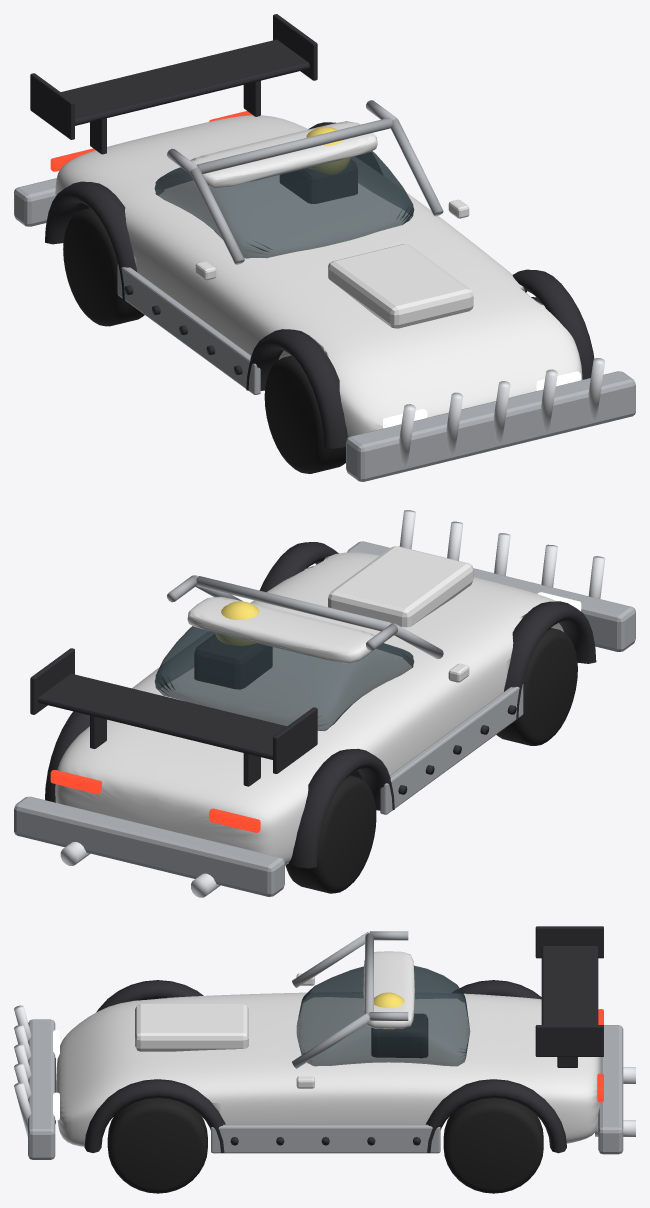
The model's file is muscle.glb.
The picture shows the model from 3 angles, top to bottom: view 1: azimuth 30°, elevation 25°; view 2: azimuth 150°, elevation 25°; view 3: azimuth 270°, elevation 25°; orthographic projection. The views are drawn at different scales.
Visible parts, largest first — view 1: Paint_Body, Steel_Parts, Dark_Parts, Glass, Wheel_FR, Wheel_RR, HeadLights; view 2: Paint_Body, Dark_Parts, Steel_Parts, Glass, Wheel_RR, Wheel_FR, TailLights, Helmet; view 3: Paint_Body, Dark_Parts, Steel_Parts, Glass, Wheel_FL, Wheel_RL, Helmet.
Part boxes in pixels (<box>): Paint_Body: <box>55,115,582,437</box>; Steel_Parts: <box>14,100,635,481</box>; Dark_Parts: <box>30,14,594,448</box>; Glass: <box>154,151,414,258</box>; Wheel_FR: <box>264,355,345,473</box>; Wheel_RR: <box>63,208,144,326</box>; HeadLights: <box>383,371,581,428</box>; Paint_Body: <box>55,546,563,864</box>; Dark_Parts: <box>30,542,596,897</box>; Steel_Parts: <box>14,510,635,896</box>; Glass: <box>154,626,414,731</box>; Wheel_RR: <box>285,775,376,893</box>; Wheel_FR: <box>496,628,577,745</box>; TailLights: <box>50,770,260,832</box>; Helmet: <box>215,601,259,645</box>; Paint_Body: <box>56,951,601,1146</box>; Dark_Parts: <box>55,926,635,1153</box>; Steel_Parts: <box>14,931,623,1159</box>; Glass: <box>296,965,470,1066</box>; Wheel_FL: <box>107,1098,207,1193</box>; Wheel_RL: <box>443,1098,543,1193</box>; Helmet: <box>374,992,404,1029</box>.
Size of the model in its own units: 2.35 by 1.66 by 5.46.
